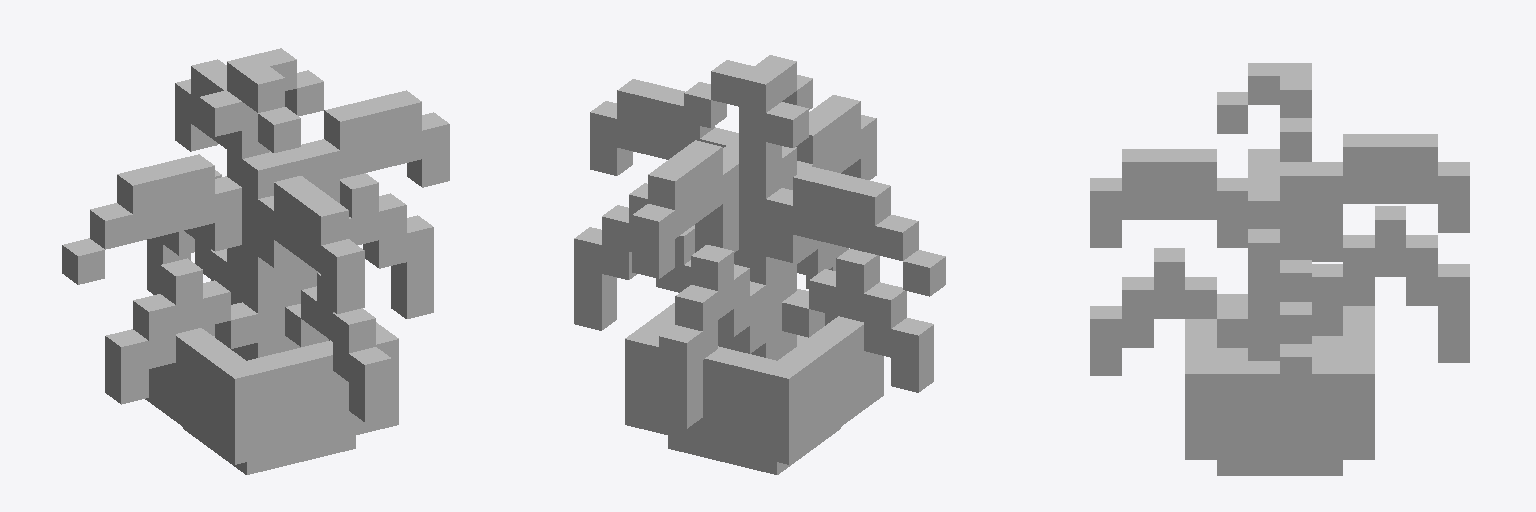
The model's file is plant1.obj.
3 renders of one model, left to right at view 1: azimuth 30°, elevation 25°; view 2: azimuth 150°, elevation 25°; view 3: azimuth 270°, elevation 25°, orthographic.
Parts seen in each view (by area): view 1: object 1; view 2: object 1; view 3: object 1.
Part boxes in pixels (x1,y1,x2,y2): object 1: (62, 48, 449, 474); object 1: (574, 55, 945, 474); object 1: (1090, 63, 1469, 475).
Size of the model in its own units: 1.3 by 1.3 by 1.2.